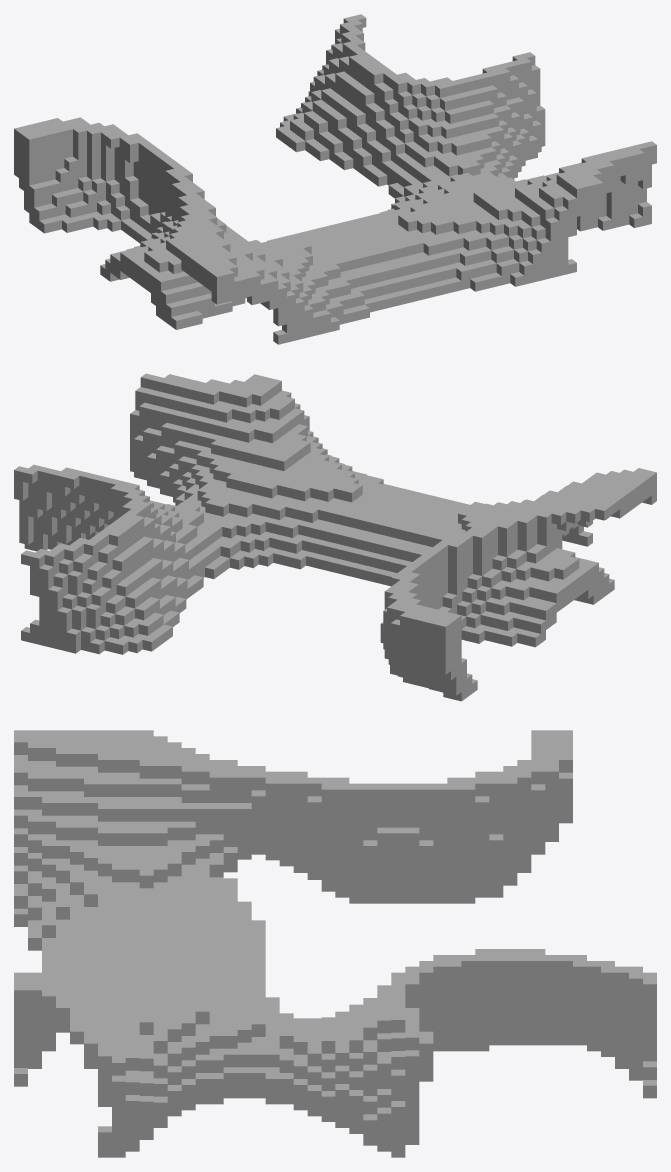
The model's file is church6-17.obj.
The picture shows the model from 3 angles, top to bottom: view 1: azimuth 30°, elevation 25°; view 2: azimuth 150°, elevation 25°; view 3: azimuth 270°, elevation 25°; orthographic projection. The views are drawn at different scales.
Visible parts, largest first — view 1: church6-17; view 2: church6-17; view 3: church6-17.
Part boxes in pixels (<box>): church6-17: <box>14,14,656,344</box>; church6-17: <box>14,373,656,701</box>; church6-17: <box>14,730,656,1157</box>.
Bounding box in the file's own units: 53 × 9 × 46.
Materials: 1 (1 with a texture image).
